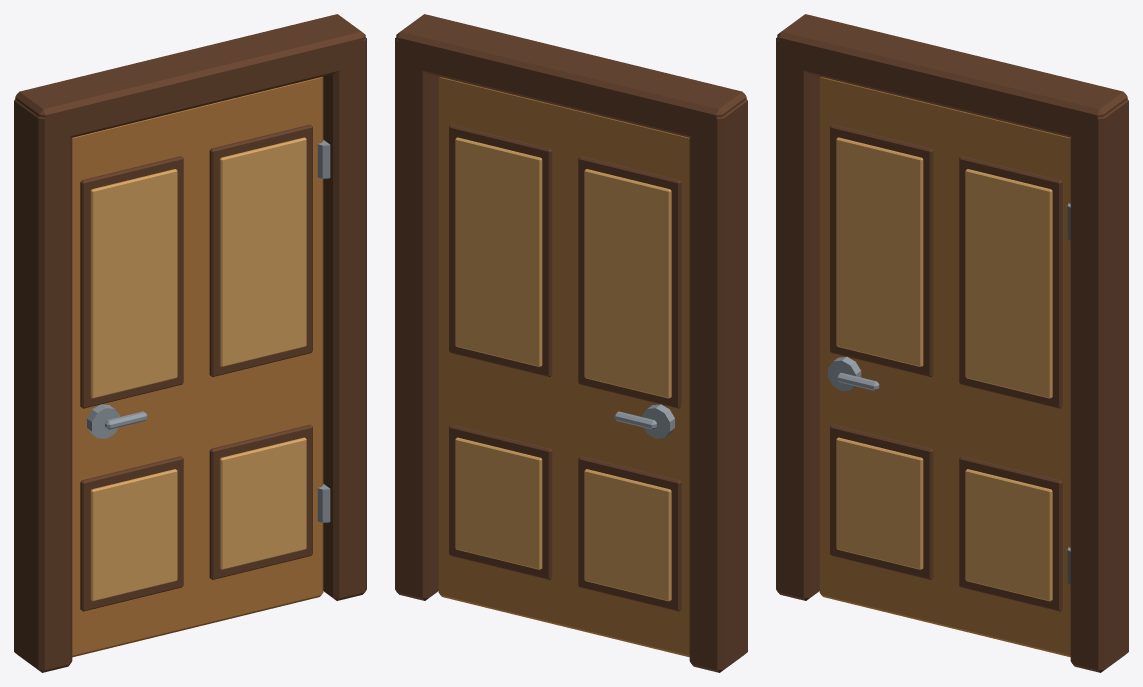
Rendered from Door.fbx.
3 renders of one model, left to right at view 1: azimuth 30°, elevation 25°; view 2: azimuth 150°, elevation 25°; view 3: azimuth 330°, elevation 25°, orthographic.
Parts seen in each view (by area): view 1: DoorLeaf, Frame; view 2: DoorLeaf, Frame; view 3: DoorLeaf, Frame.
Part boxes in pixels (box(x1,y1,x2,y2)): DoorLeaf: box(72, 76, 323, 657); Frame: box(14, 14, 366, 672); DoorLeaf: box(438, 76, 689, 657); Frame: box(395, 14, 747, 672); DoorLeaf: box(819, 76, 1070, 657); Frame: box(776, 14, 1128, 672).
Size of the model in its own units: 1.45 by 2.38 by 0.265.
